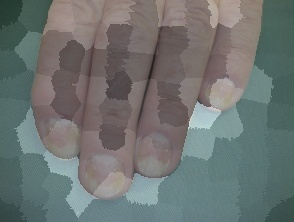Nail_psoriasis: (78, 146, 132, 199), (134, 133, 174, 177), (40, 115, 83, 151), (203, 78, 239, 114)
